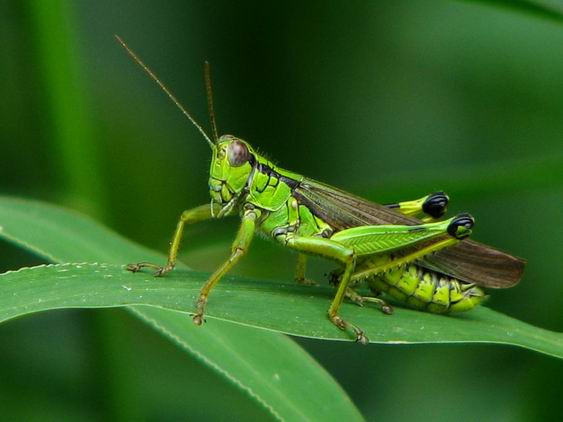huangchong: (178, 124, 517, 338)
